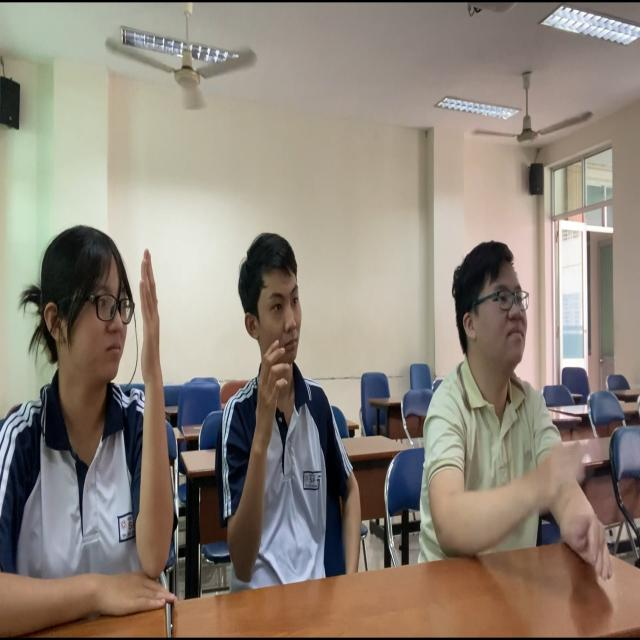raise_hand: (1, 216, 178, 616)
